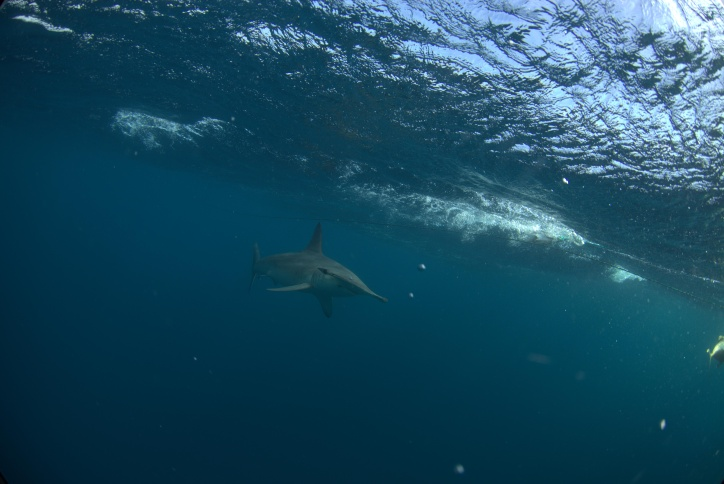Hammer: (225, 198, 416, 337)
